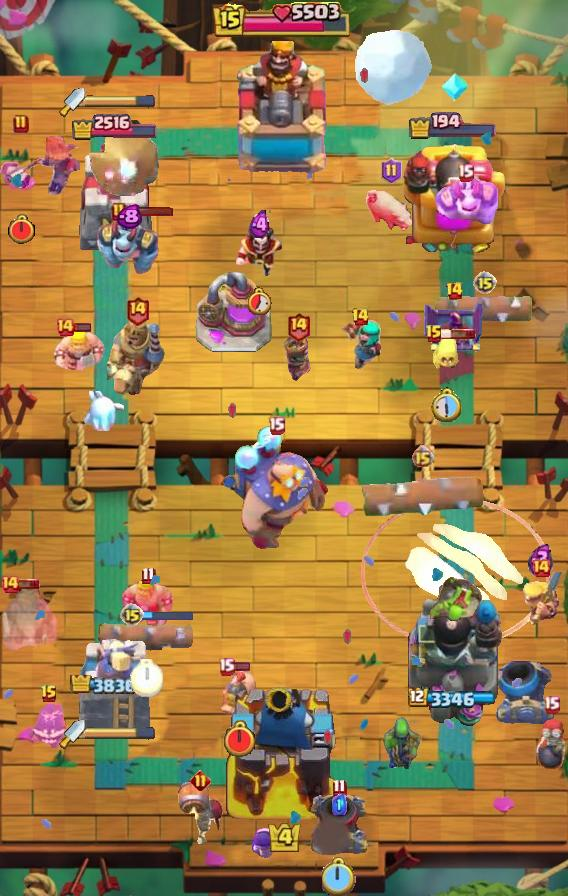bar: (142, 610, 194, 621), (124, 206, 174, 217), (4, 578, 40, 590), (440, 328, 476, 340), (232, 661, 251, 672), (73, 322, 92, 333)
bar-level: (286, 311, 311, 342), (125, 295, 150, 326), (120, 603, 144, 627), (473, 271, 497, 295), (381, 158, 402, 184), (411, 445, 434, 468), (190, 770, 211, 791), (0, 574, 20, 594), (531, 558, 551, 578), (55, 317, 75, 337), (351, 307, 370, 327), (445, 281, 464, 301), (40, 684, 58, 704), (425, 324, 443, 344), (543, 695, 560, 714), (218, 657, 235, 676), (268, 416, 285, 435), (457, 163, 474, 182), (111, 202, 127, 222), (13, 114, 29, 134), (332, 778, 347, 797), (141, 566, 156, 585)
barbarian: (120, 578, 176, 628), (50, 327, 106, 375)
barbarian-evolution: (521, 572, 562, 626)
bomber: (534, 714, 568, 770)
cannoneer-tower: (402, 579, 504, 731), (399, 138, 507, 256)
clock: (222, 720, 257, 759), (322, 857, 356, 896), (130, 659, 163, 697), (431, 387, 464, 423), (7, 214, 36, 245), (248, 287, 272, 315)
dagger-duchess-tower: (73, 140, 155, 256), (77, 637, 151, 731)
dagger-duchess-tower-bar: (85, 727, 155, 741), (85, 95, 155, 109)
electro-spirit: (29, 704, 69, 748)
electro-wizard: (235, 226, 285, 278)
elixir: (528, 543, 554, 577), (116, 204, 142, 230), (249, 210, 271, 240), (332, 794, 347, 815)
goblin-ball: (426, 574, 484, 622)
heal-spirit: (432, 331, 462, 377)
hog: (365, 184, 417, 234)
ice-spirit: (82, 391, 124, 431)
ice-spirit-evolution-symbol: (440, 72, 470, 102)
king-tower: (223, 680, 345, 826), (228, 41, 340, 181)
king-tower-bar: (213, 2, 355, 40)
little-prince: (282, 333, 314, 383)
mega-minion: (95, 210, 163, 276), (432, 173, 498, 227)
mortar: (308, 790, 370, 858), (496, 660, 556, 724)
rascal-girl: (337, 319, 383, 371)
royal-ghost: (0, 585, 58, 653)
royal-hog: (219, 668, 259, 720)
skeleton-evolution: (251, 827, 278, 861)
spear-goblin: (382, 715, 422, 773)
the-log: (359, 472, 485, 522), (96, 616, 196, 654), (433, 291, 537, 325)
tower-bar: (70, 112, 158, 141), (408, 112, 498, 140), (408, 687, 498, 710), (70, 675, 158, 694)
valkyrie-evolution: (0, 133, 80, 200)
wall-breaker: (175, 779, 225, 847)
